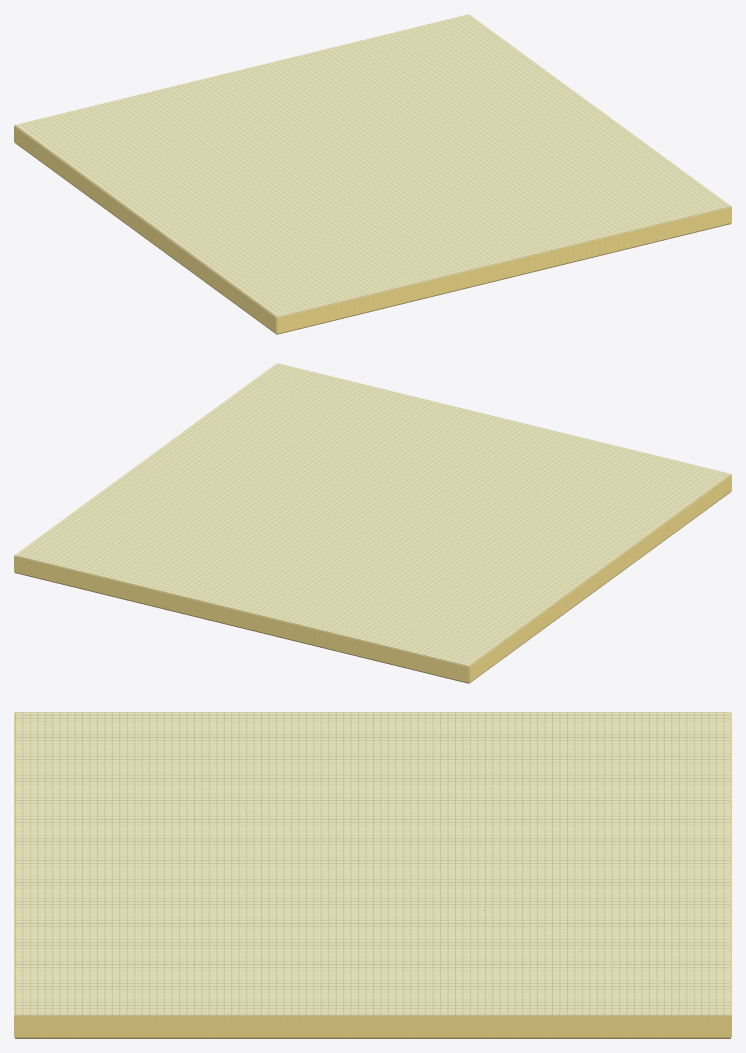
Rendered from world-backrooms.glb.
3 views of the same model, one above another, from view 1: azimuth 30°, elevation 25°; view 2: azimuth 150°, elevation 25°; view 3: azimuth 270°, elevation 25° (orthographic). The views are drawn at different scales.
Parts seen in each view (by area): view 1: Suspended_ceiling, Boundary_wall.002, Boundary_wall, Continuous_carpet; view 2: Suspended_ceiling, Boundary_wall.003, Boundary_wall, Continuous_carpet; view 3: Suspended_ceiling, Boundary_wall.001, Continuous_carpet.
Boxes of the visible parts, left/top/right/bottom form: Suspended_ceiling: left=14, top=14, right=731, bottom=317; Boundary_wall.002: left=277, top=207, right=731, bottom=333; Boundary_wall: left=14, top=126, right=276, bottom=333; Continuous_carpet: left=14, top=142, right=731, bottom=334; Suspended_ceiling: left=14, top=363, right=731, bottom=666; Boundary_wall.003: left=14, top=556, right=468, bottom=682; Boundary_wall: left=469, top=475, right=731, bottom=682; Continuous_carpet: left=14, top=491, right=731, bottom=683; Suspended_ceiling: left=15, top=712, right=730, bottom=1015; Boundary_wall.001: left=15, top=1015, right=730, bottom=1037; Continuous_carpet: left=15, top=1037, right=730, bottom=1038.
Size of the model in its own units: 96.25 by 3.58 by 96.25.
7 materials, 4 textured.
